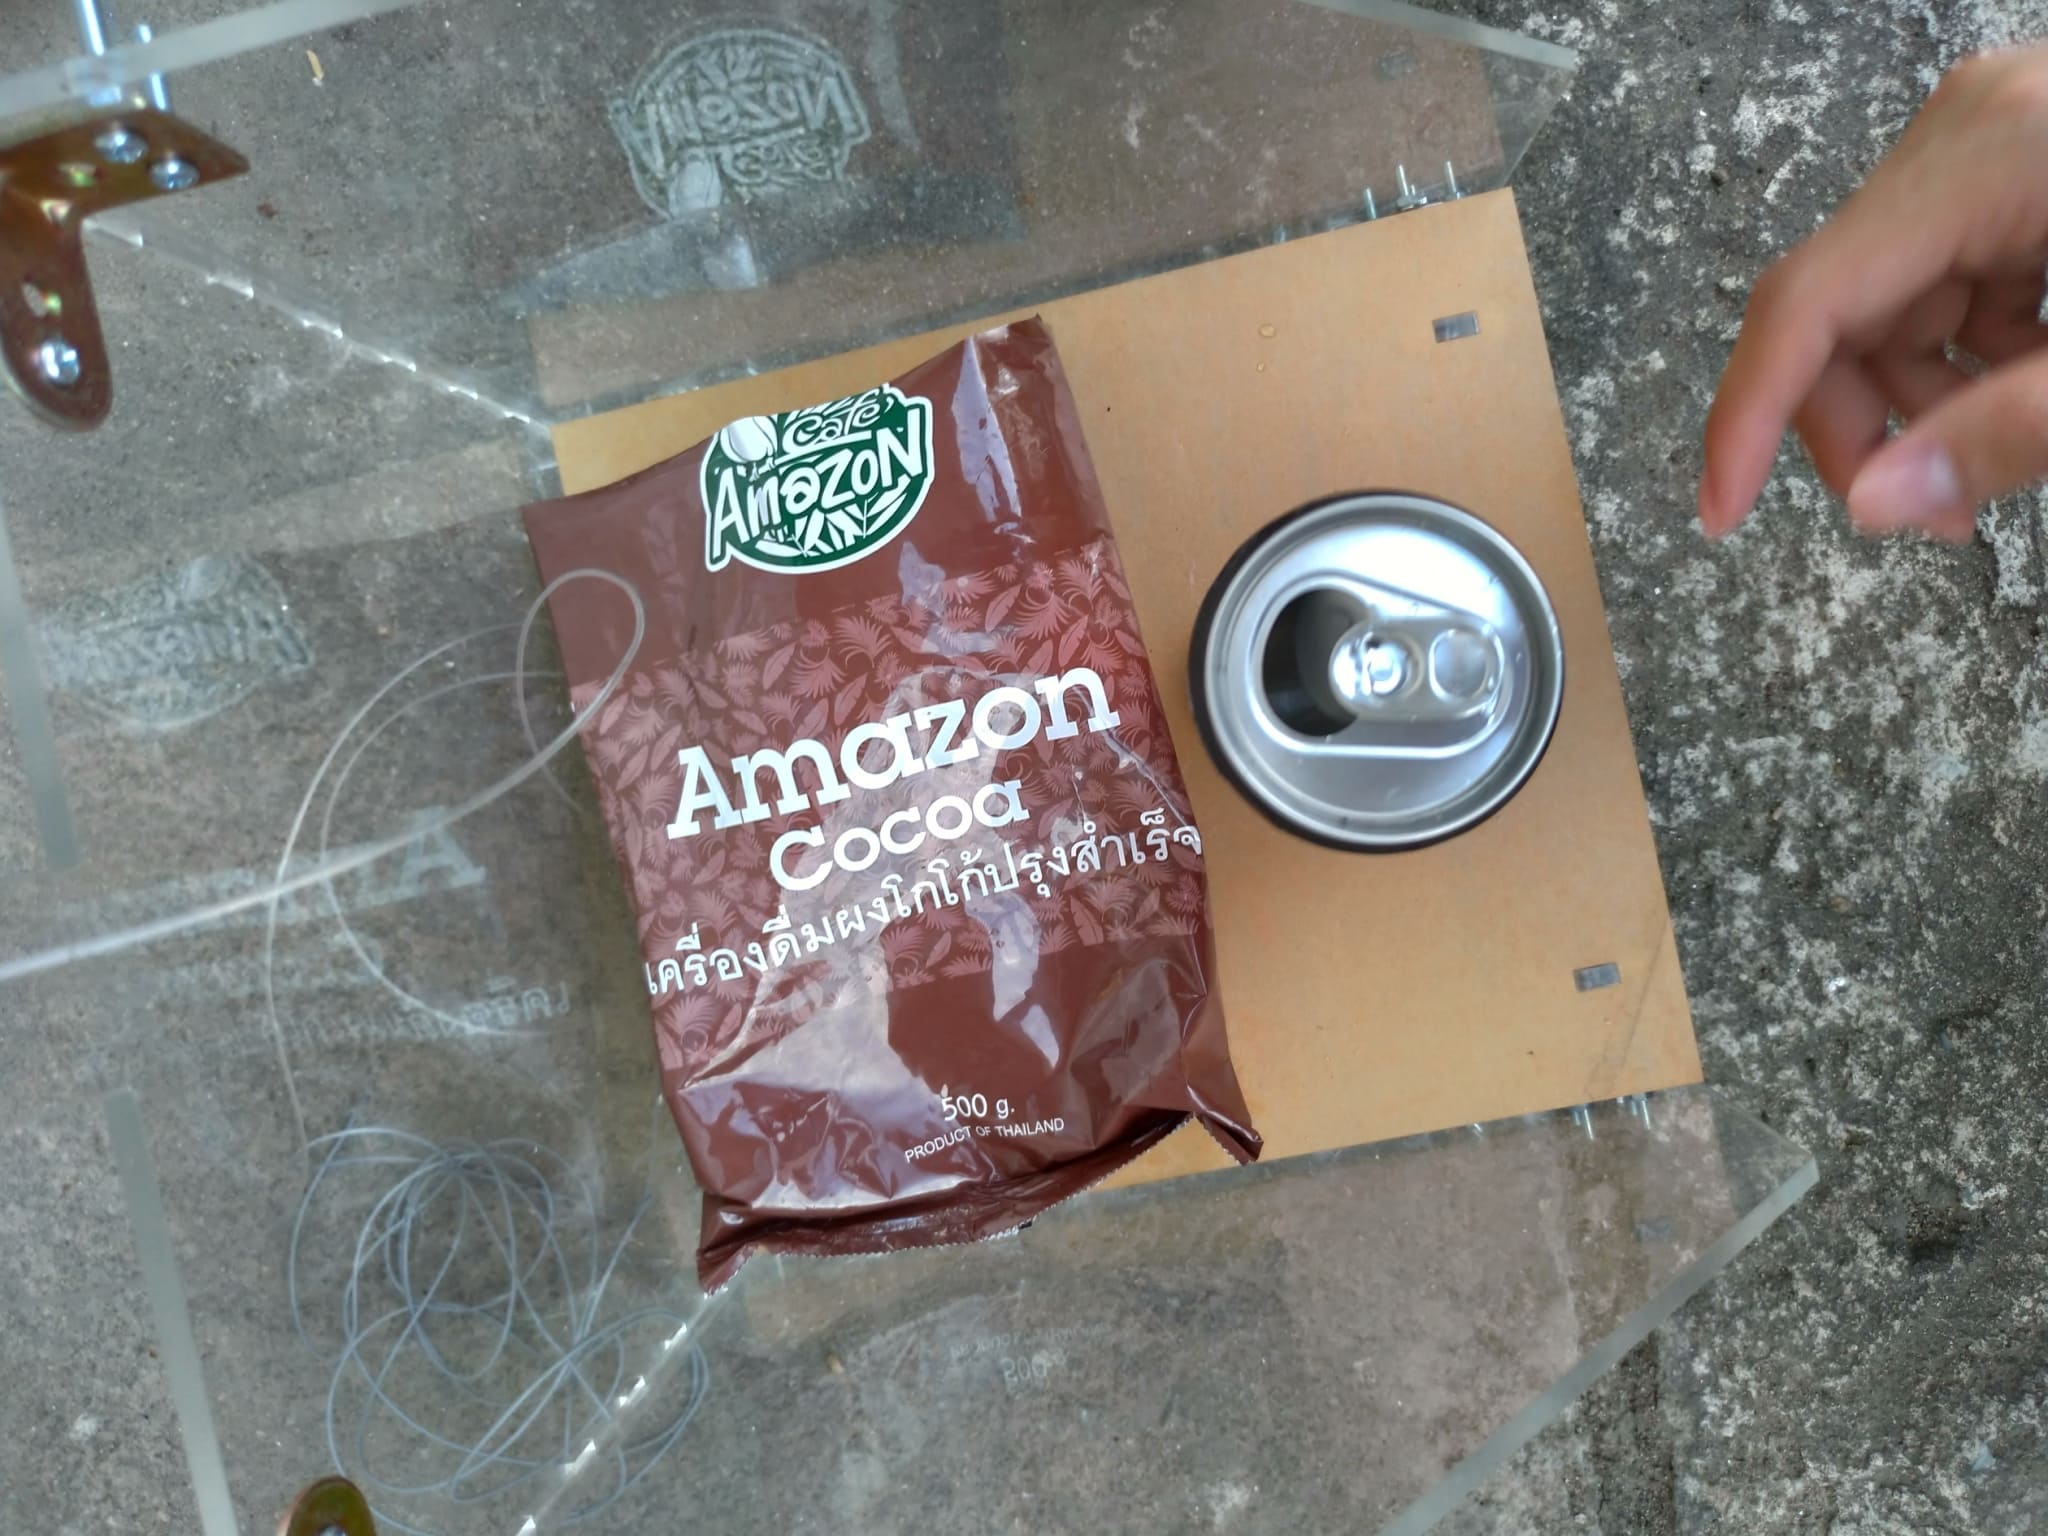AlCan: (1195, 482, 1567, 858)
Others: (526, 319, 1253, 1275)
